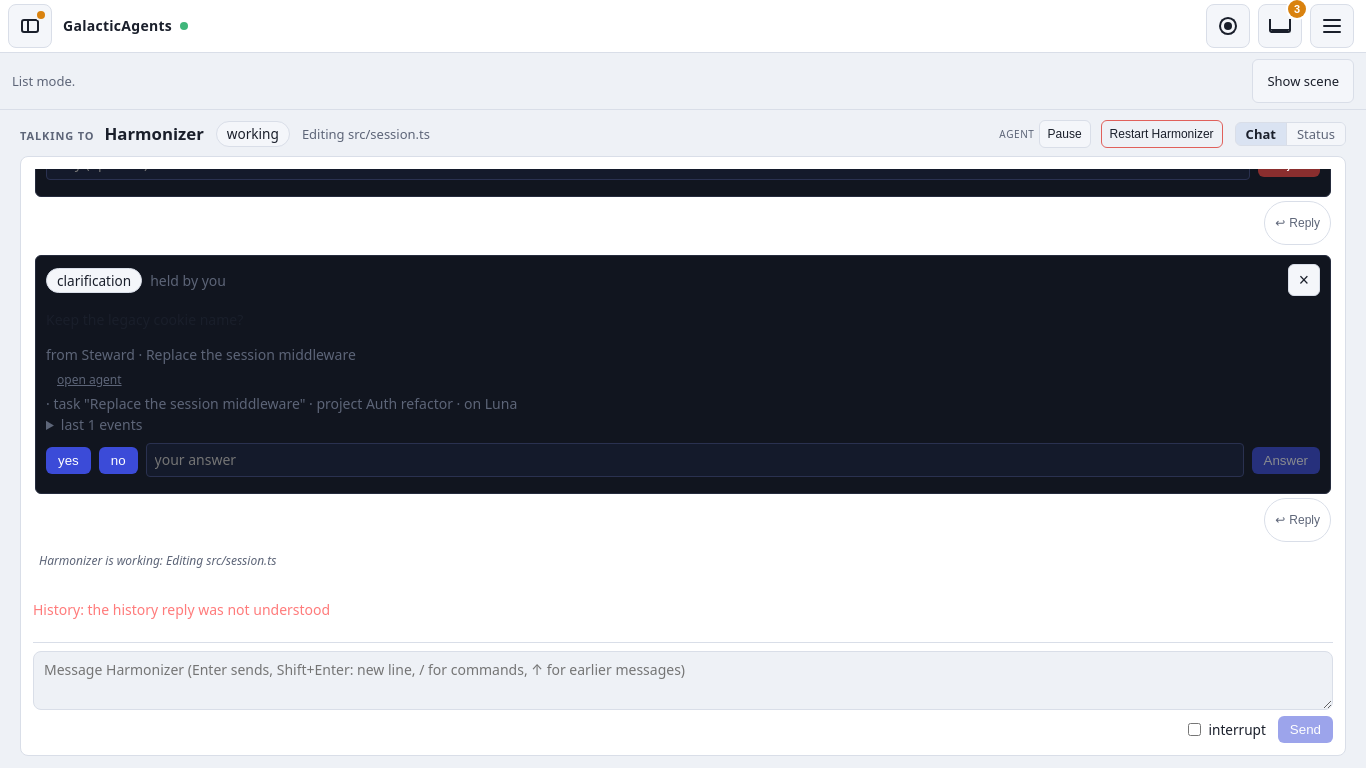
Test: one screen at a time on a phone (P8-18) › Escape closes the full view
(page scrolled)
Click the button named "Managed agents": [1228, 26] box [1206,4,1250,48]
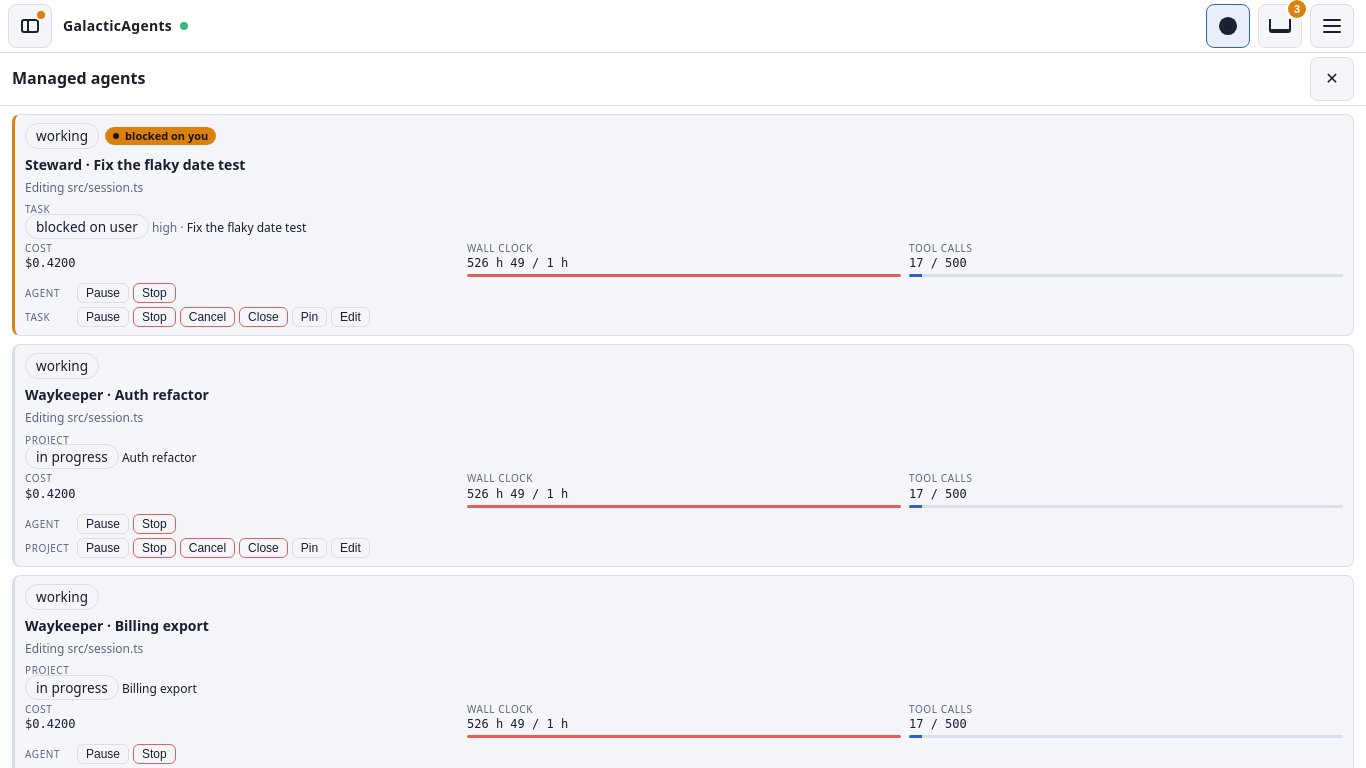
Press Escape in the heading "Managed agents", box [12,67,146,89]
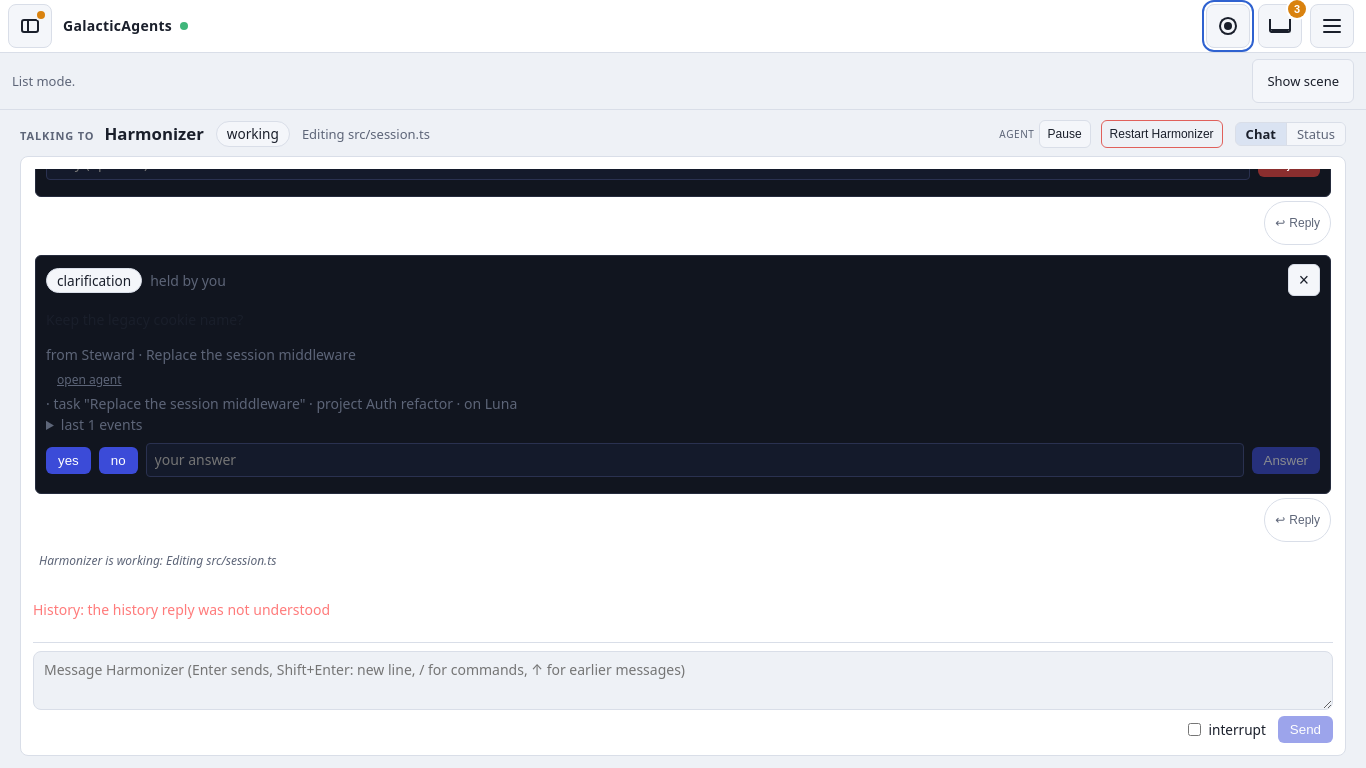
Now the dialog is gone
